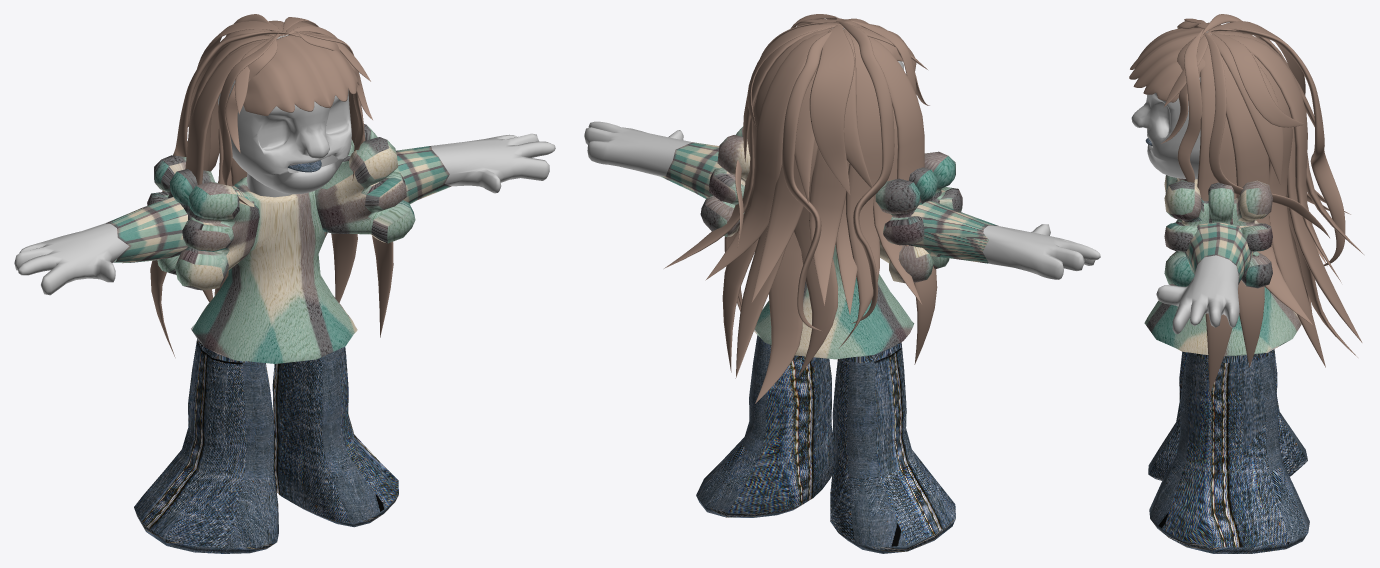
Rendered from trial.fbx.
3 views of the same model, side by side, from view 1: azimuth 30°, elevation 25°; view 2: azimuth 150°, elevation 25°; view 3: azimuth 270°, elevation 25° (orthographic). The views are drawn at different scales.
Parts seen in each view (by area): view 1: teeth1; view 2: teeth1; view 3: teeth1.
Part boxes in pixels (bbox=[...]): teeth1: bbox=[14, 14, 555, 553]; teeth1: bbox=[584, 14, 1100, 553]; teeth1: bbox=[1129, 14, 1363, 553].
Size of the model in its own units: 14.06 by 12.4 by 5.62.
